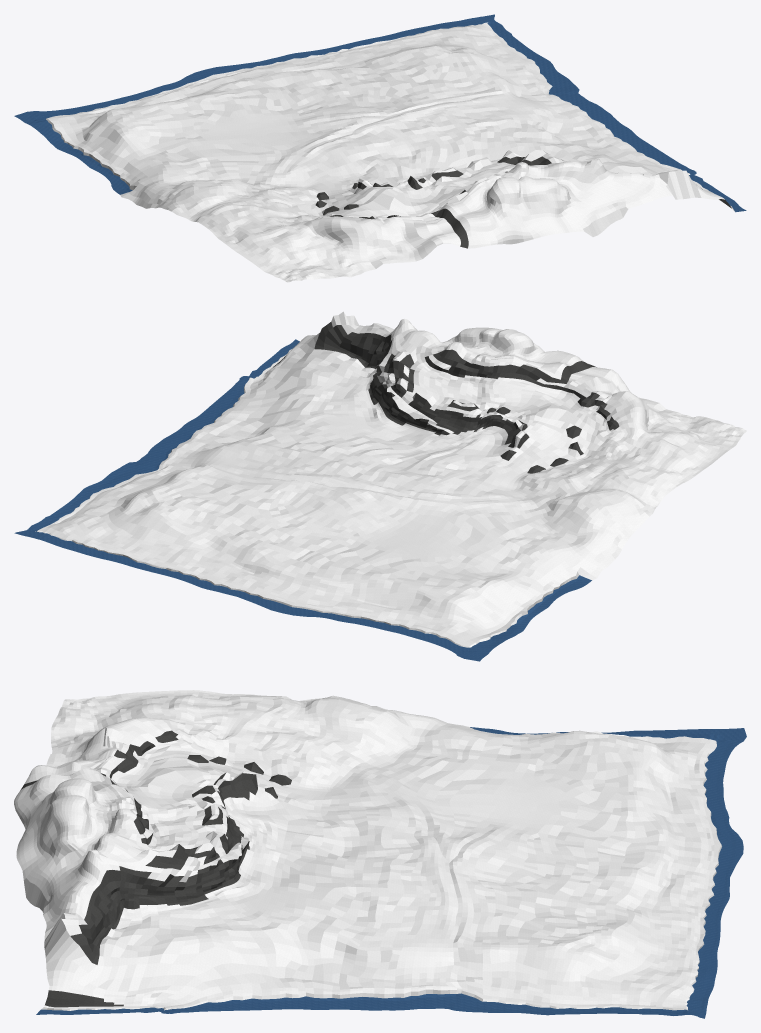
The model's file is Terrain_1.fbx.
The picture shows the model from 3 angles, top to bottom: view 1: azimuth 30°, elevation 25°; view 2: azimuth 150°, elevation 25°; view 3: azimuth 270°, elevation 25°; orthographic projection. The views are drawn at different scales.
Parts seen in each view (by area): view 1: Terrain; view 2: Terrain; view 3: Terrain.
Boxes of the visible parts, x1=… form: Terrain: x1=14, y1=14, x2=746, y2=282; Terrain: x1=14, y1=311, x2=746, y2=661; Terrain: x1=14, y1=690, x2=746, y2=1018.
Bounding box in the file's own units: 2005 × 302 × 2127.
Materials: 3 (3 with a texture image).
